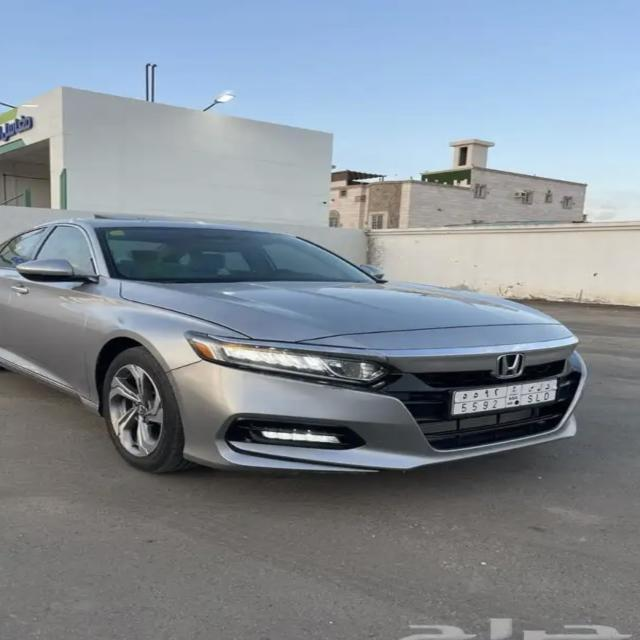license_plate: (452, 380, 558, 416)
